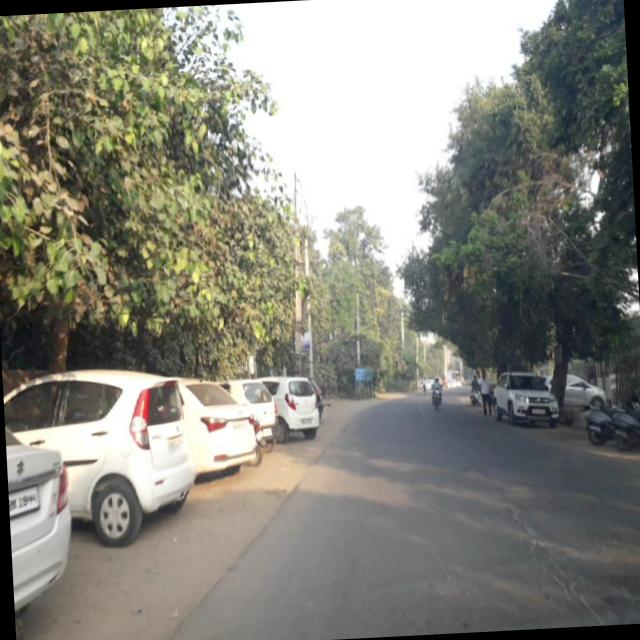pothole: (488, 470, 612, 630)
